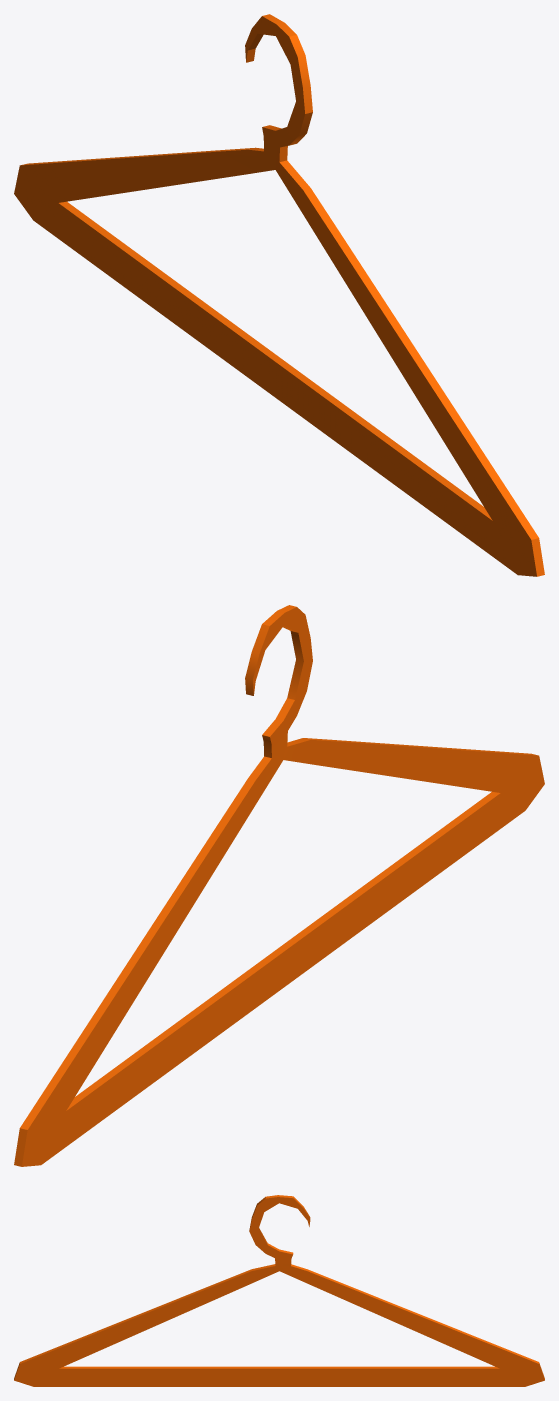
Rendered from Hanger_E.FBX.
The picture shows the model from 3 angles, top to bottom: view 1: azimuth 30°, elevation 25°; view 2: azimuth 150°, elevation 25°; view 3: azimuth 270°, elevation 25°; orthographic projection. The views are drawn at different scales.
Visible parts, largest first — view 1: Hanger; view 2: Hanger; view 3: Hanger.
Boxes of the visible parts, x1,y1,x2,y2 form: Hanger: [14, 14, 544, 576]; Hanger: [14, 605, 544, 1166]; Hanger: [14, 1195, 544, 1386].
Bounding box in the file's own units: 1.01 × 45.57 × 115.
